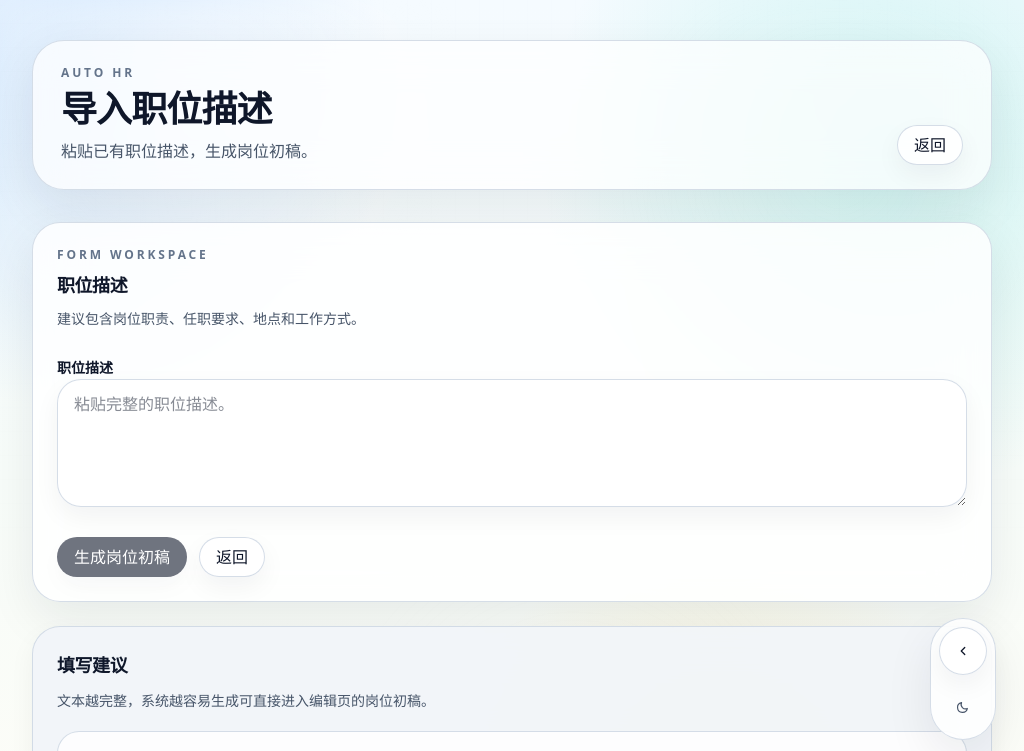
Scenario: Job creation pages › shows the description flow error and keeps the input value
Type "Broken description" into the text box labelled "职位描述" at {"x": 512, "y": 443}, box [57,379,967,507]
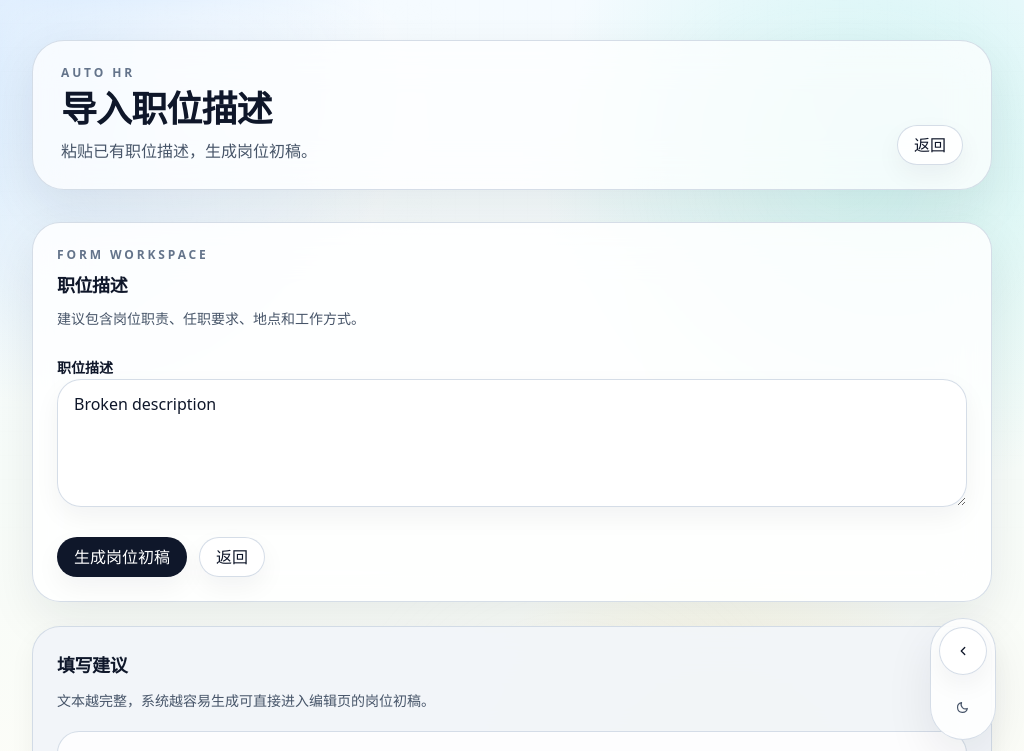
Click the button "生成岗位初稿" at {"x": 122, "y": 557}, box [57,537,187,577]
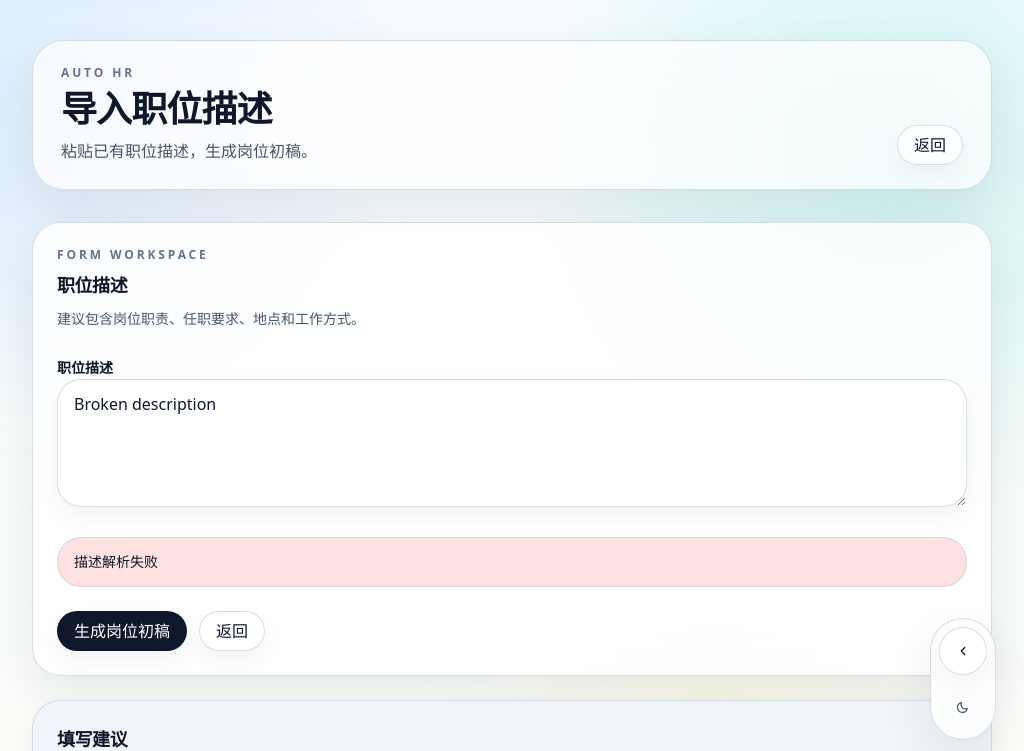
Now the text "描述解析失败" is shown, box [57,537,967,587]
